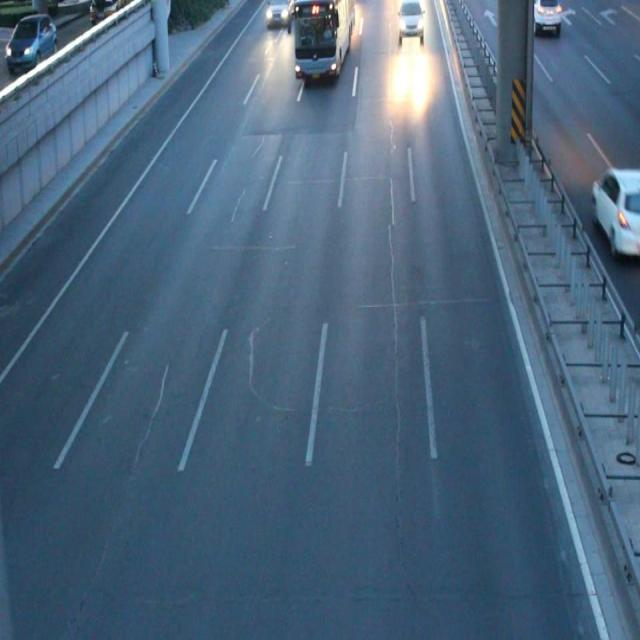car: (589, 167, 640, 258), (528, 1, 560, 32), (398, 1, 423, 36), (267, 1, 290, 26)
van: (293, 1, 352, 77)
